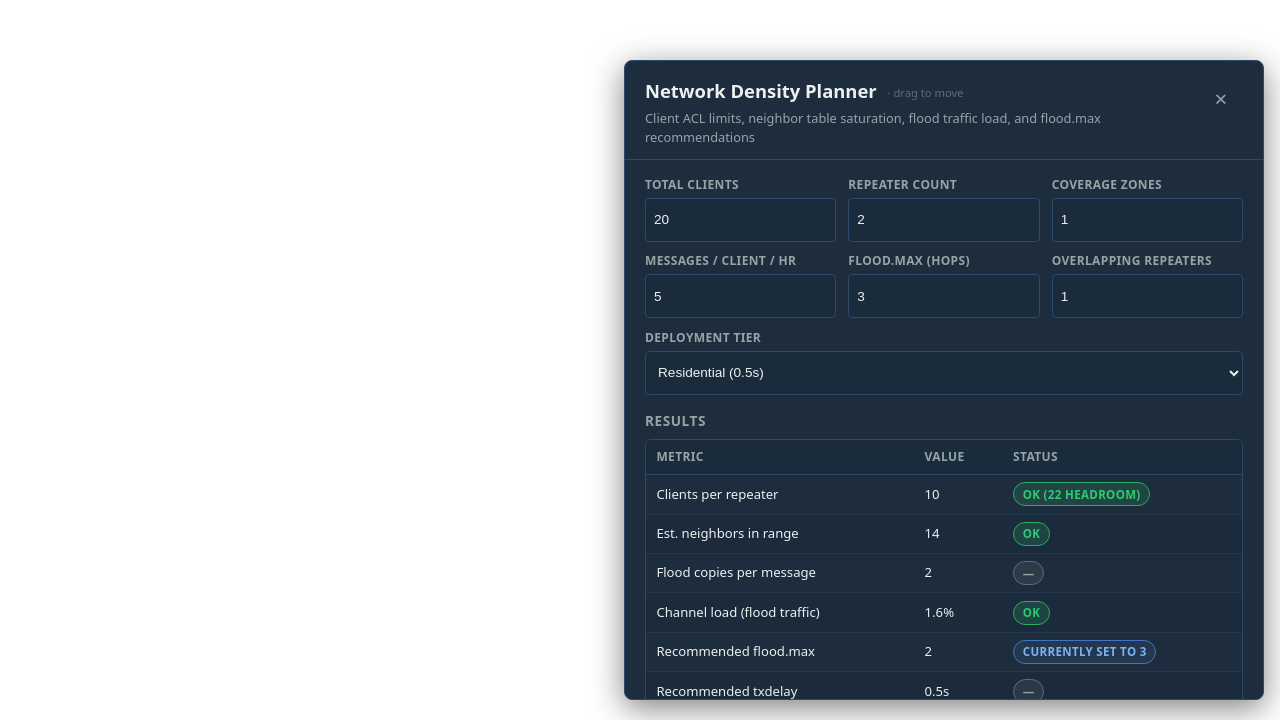
MeshCoreCapacityModal — interaction › changing flood.max updates flood copies row
Replace the text in the number field labelled "flood.max (hops)" with "1" at coordinates (944, 296), box [848,274,1040,318]
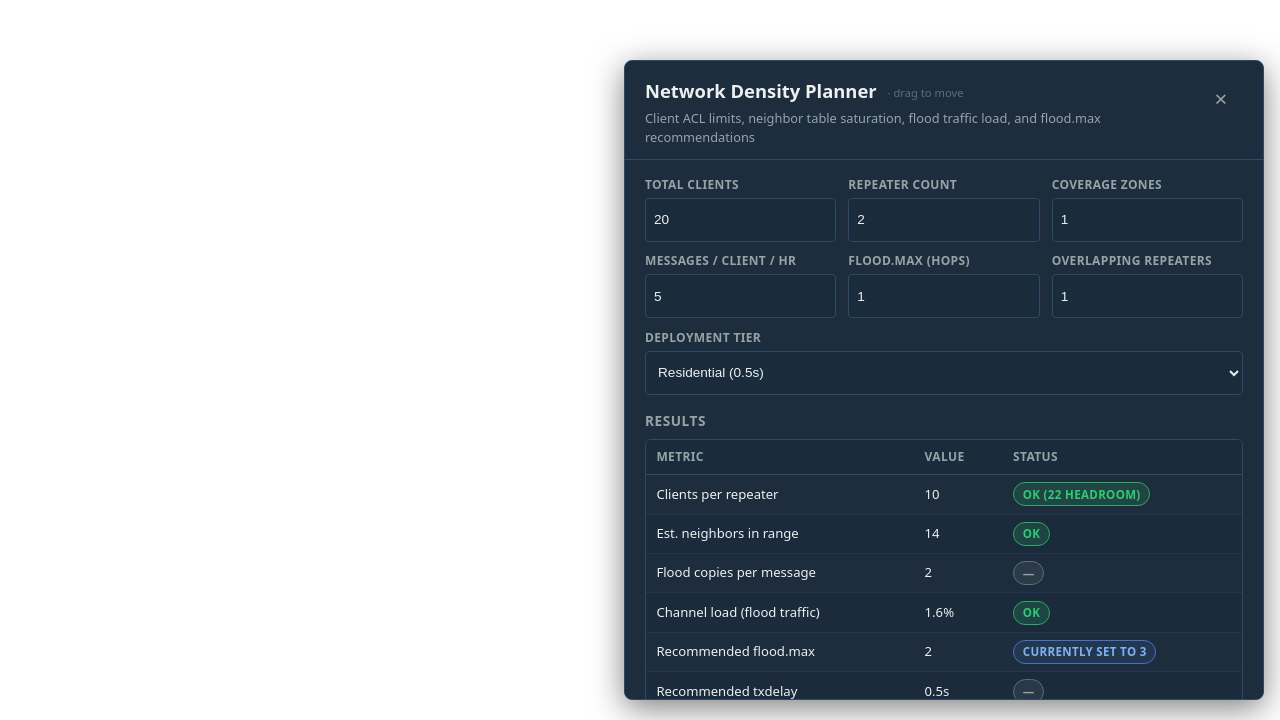
Leave the number field labelled "flood.max (hops)", box [848,274,1040,318]
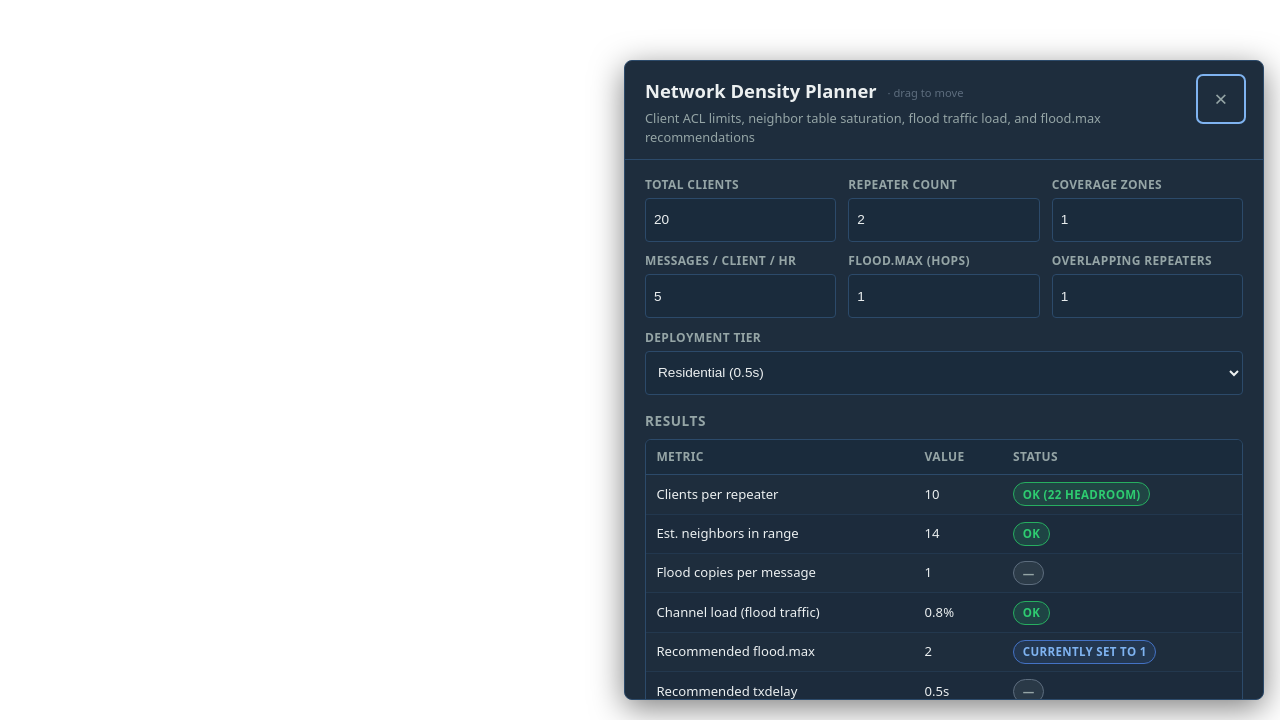
Expected: the cell does not show "2"
Now the cell "1" is shown, box [914,554,1003,593]
